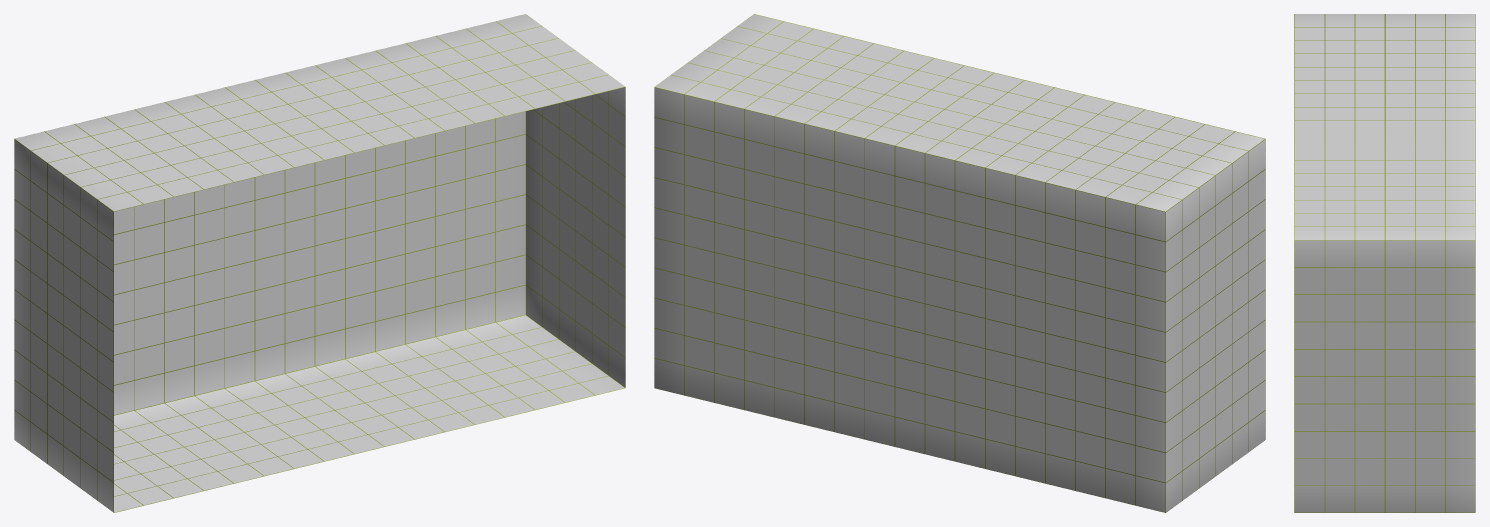
File: AntilatencyBox.obj
3 renders of one model, left to right at view 1: azimuth 30°, elevation 25°; view 2: azimuth 150°, elevation 25°; view 3: azimuth 270°, elevation 25°, orthographic. The views are drawn at different scales.
Visible parts, largest first — view 1: SceneBox; view 2: SceneBox; view 3: SceneBox.
Boxes of the visible parts, <box> form: SceneBox: <box>14,14,625,512</box>; SceneBox: <box>654,14,1265,512</box>; SceneBox: <box>1294,14,1475,512</box>.
Bounding box in the file's own units: 0.16 × 0.09 × 0.0541.
